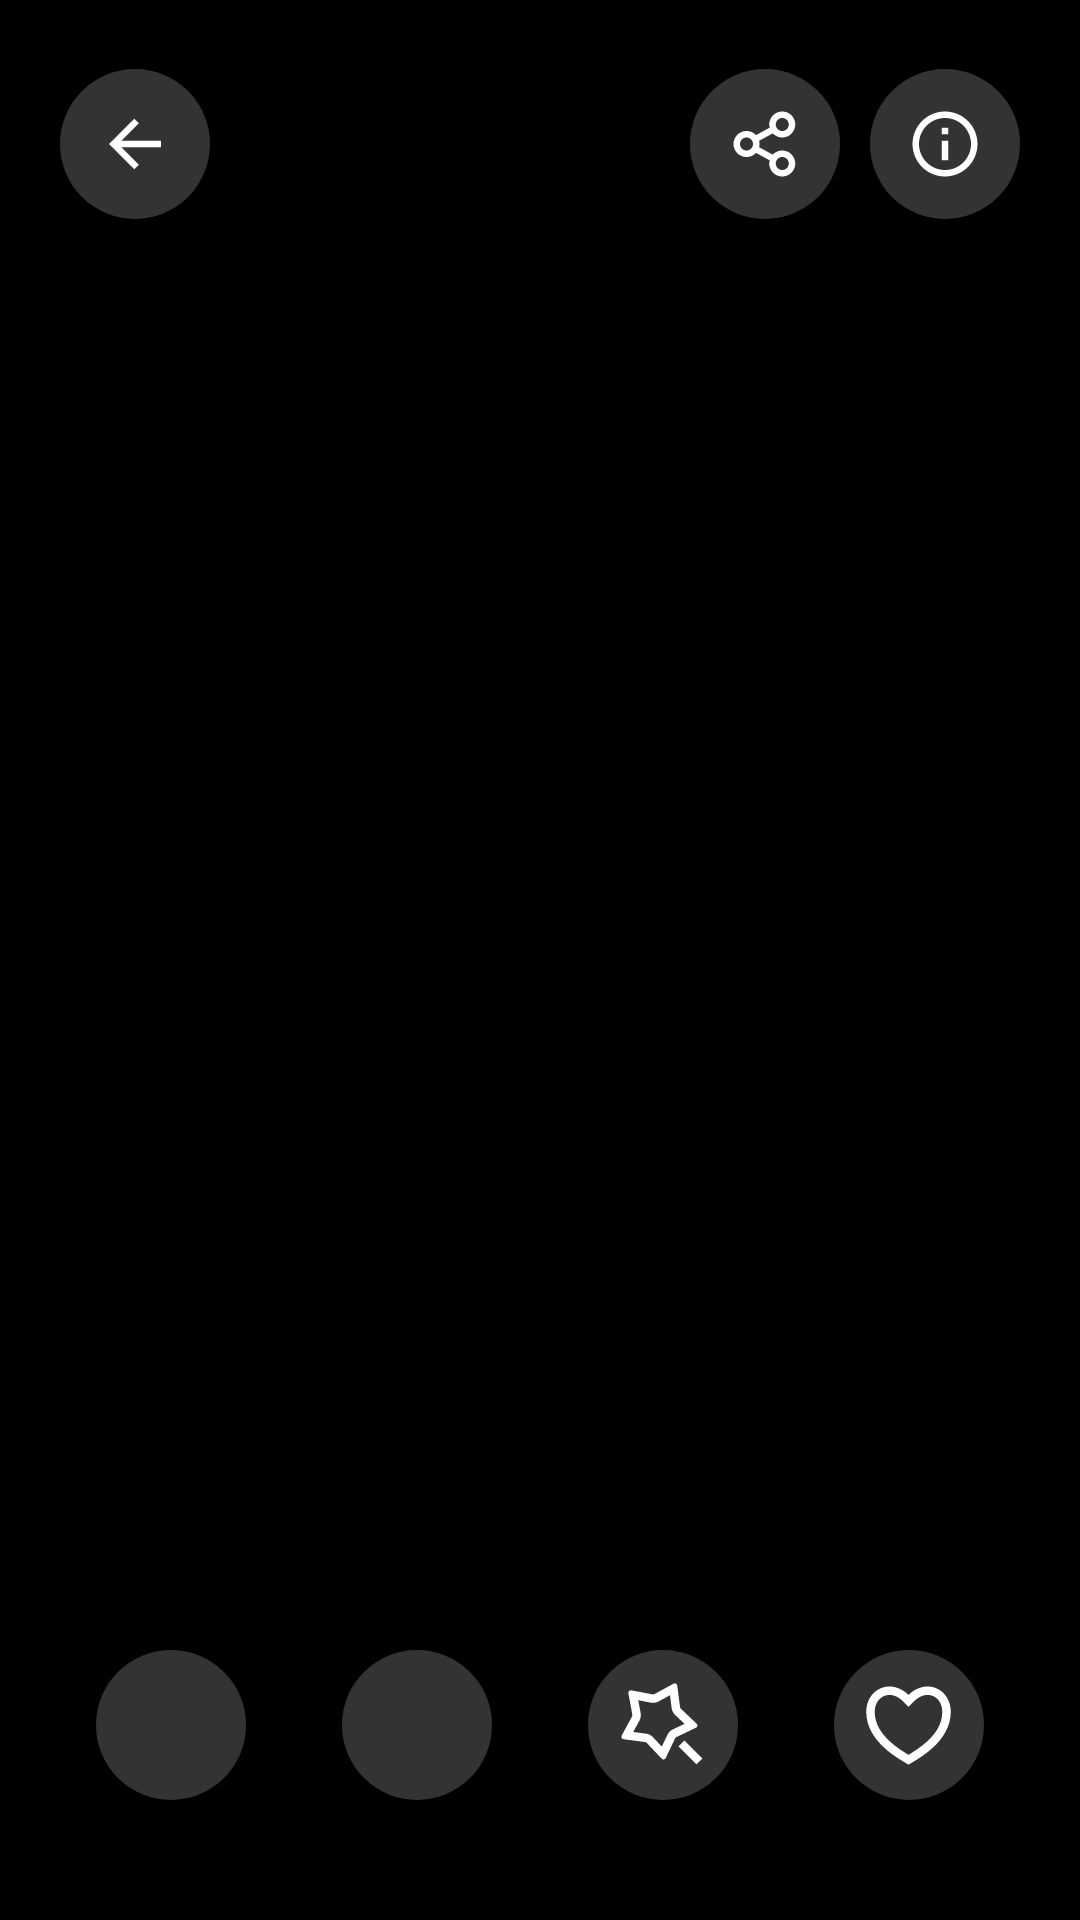

Named icons in this screenshot (1080px×1920px) and their centers, point (x, y):
back: point (135, 144)
heart: point (908, 1725)
info: point (945, 144)
share: point (764, 144)
star: point (662, 1724)
